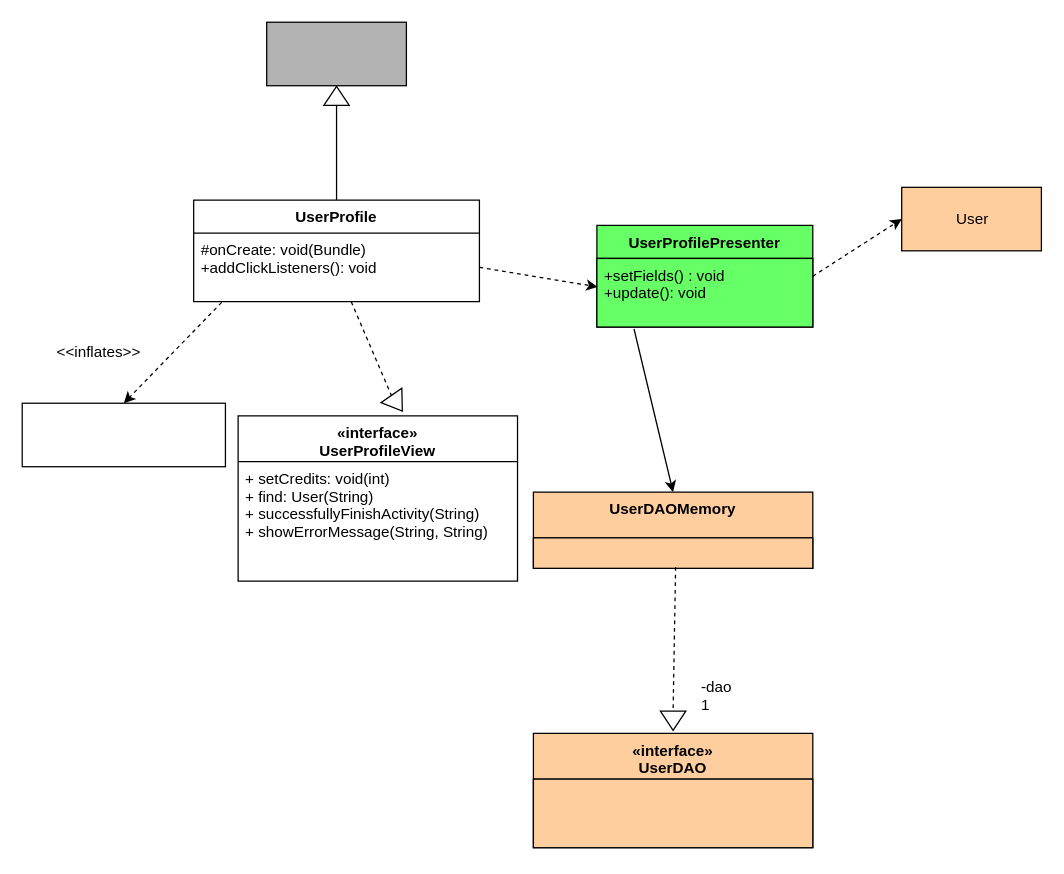
The diagram is 1064 pixels wide and 874 high, and some of its shapes have lost their labels. Each missing label, with the centre of its shape:
+ update: void(User,String) + find: User(String): point (672, 813)
AppCompatActivity: point (335, 53)
«layout» activity_user_profile.xml: point (123, 434)
